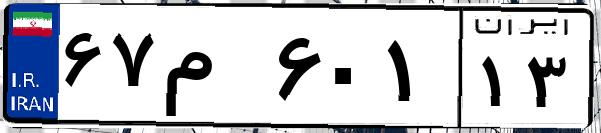0: (330, 28, 385, 110)
1: (385, 28, 445, 110), (475, 38, 525, 113)
3: (525, 38, 570, 115)
6: (270, 28, 330, 110), (57, 26, 110, 100)
7: (110, 28, 158, 98)
م: (158, 20, 270, 120)
